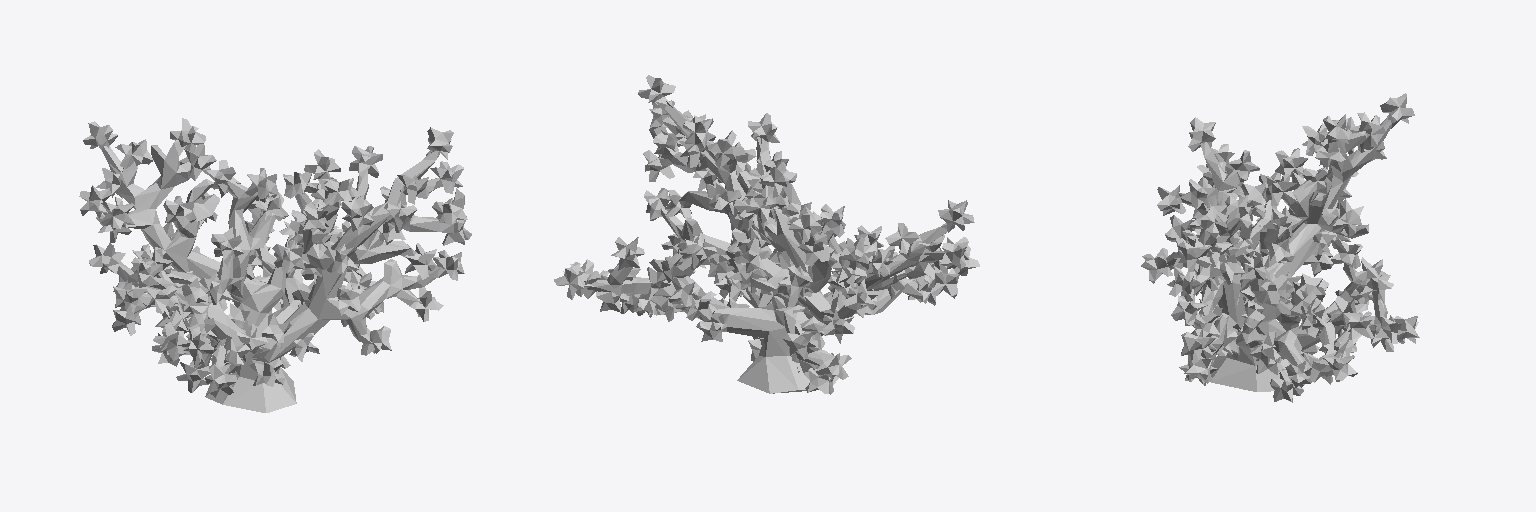
Rendered from Coral_3584.obj.
3 renders of one model, left to right at view 1: azimuth 30°, elevation 25°; view 2: azimuth 150°, elevation 25°; view 3: azimuth 270°, elevation 25°, orthographic.
Visible parts, largest first — view 1: 21488_Tree_Coral_v2_NEW; view 2: 21488_Tree_Coral_v2_NEW; view 3: 21488_Tree_Coral_v2_NEW.
Part boxes in pixels (x1,y1,x2,y2): 21488_Tree_Coral_v2_NEW: (79, 118, 471, 412); 21488_Tree_Coral_v2_NEW: (554, 75, 979, 394); 21488_Tree_Coral_v2_NEW: (1141, 93, 1419, 402).
Bounding box in the file's own units: 0.9902 × 0.69 × 0.707.